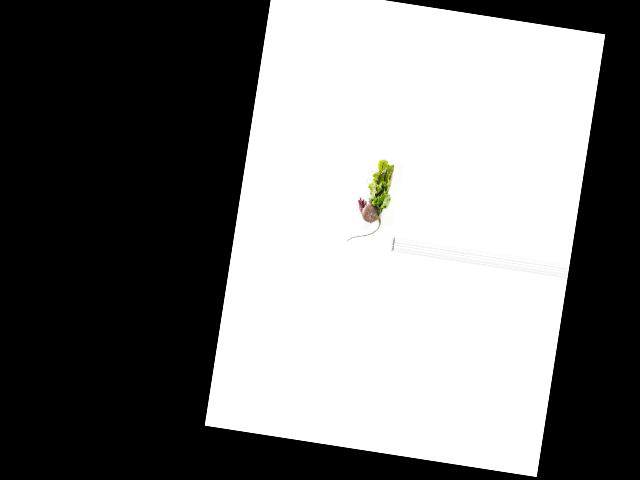beet: (346, 196, 384, 247)
